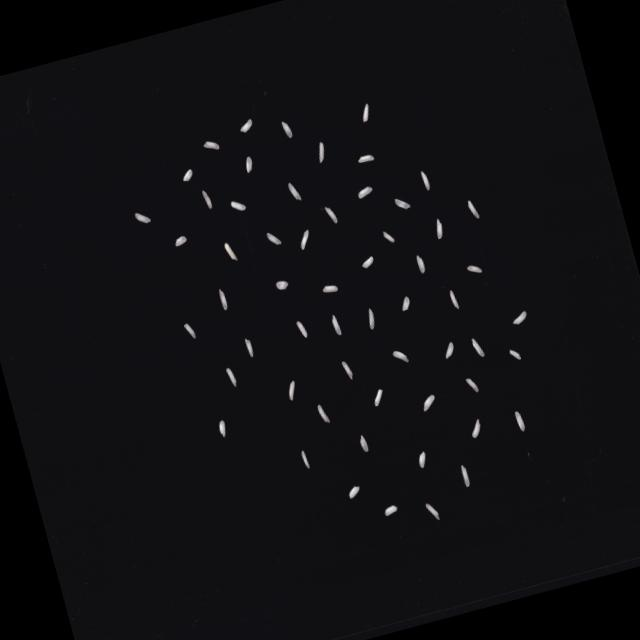Chalky: (296, 228, 312, 250), (286, 180, 302, 202), (424, 500, 440, 521), (470, 334, 484, 358), (420, 392, 438, 410), (134, 208, 152, 226), (324, 202, 338, 225), (370, 386, 386, 406), (216, 286, 228, 312), (284, 379, 298, 401), (223, 240, 237, 262), (391, 348, 408, 366), (201, 136, 220, 152), (509, 309, 528, 325), (468, 417, 483, 437), (459, 462, 471, 487), (394, 194, 411, 211), (514, 408, 526, 432), (316, 402, 329, 424), (225, 365, 238, 387), (466, 197, 479, 219), (464, 374, 478, 394), (280, 118, 294, 138), (358, 102, 372, 122), (238, 116, 255, 132), (266, 228, 281, 246), (331, 312, 342, 336), (341, 360, 354, 380), (314, 140, 327, 160), (295, 318, 308, 338), (466, 260, 482, 276), (230, 197, 247, 212), (442, 340, 456, 358), (356, 184, 374, 198), (346, 484, 362, 499), (414, 252, 426, 272), (420, 168, 430, 192), (242, 154, 255, 172), (448, 288, 459, 309), (366, 307, 376, 330), (398, 294, 412, 310), (359, 254, 375, 268), (183, 321, 196, 338), (243, 336, 254, 356), (432, 218, 443, 238), (416, 450, 428, 468), (356, 152, 374, 164), (202, 188, 212, 209), (382, 503, 398, 516), (382, 228, 395, 244), (508, 346, 521, 361), (358, 433, 368, 452), (218, 418, 228, 437), (300, 449, 310, 468), (274, 278, 288, 291), (181, 167, 194, 181), (322, 282, 338, 293), (174, 234, 188, 246)
